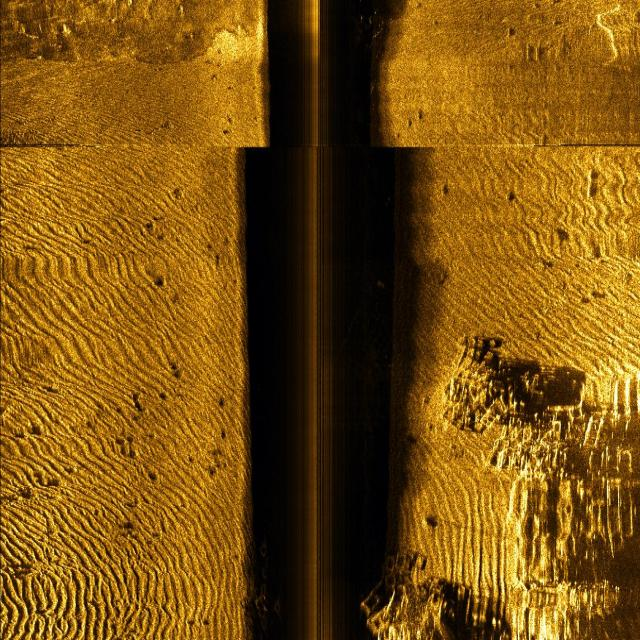artificial reef: (422, 338, 556, 470), (365, 518, 491, 640), (251, 526, 300, 640)
